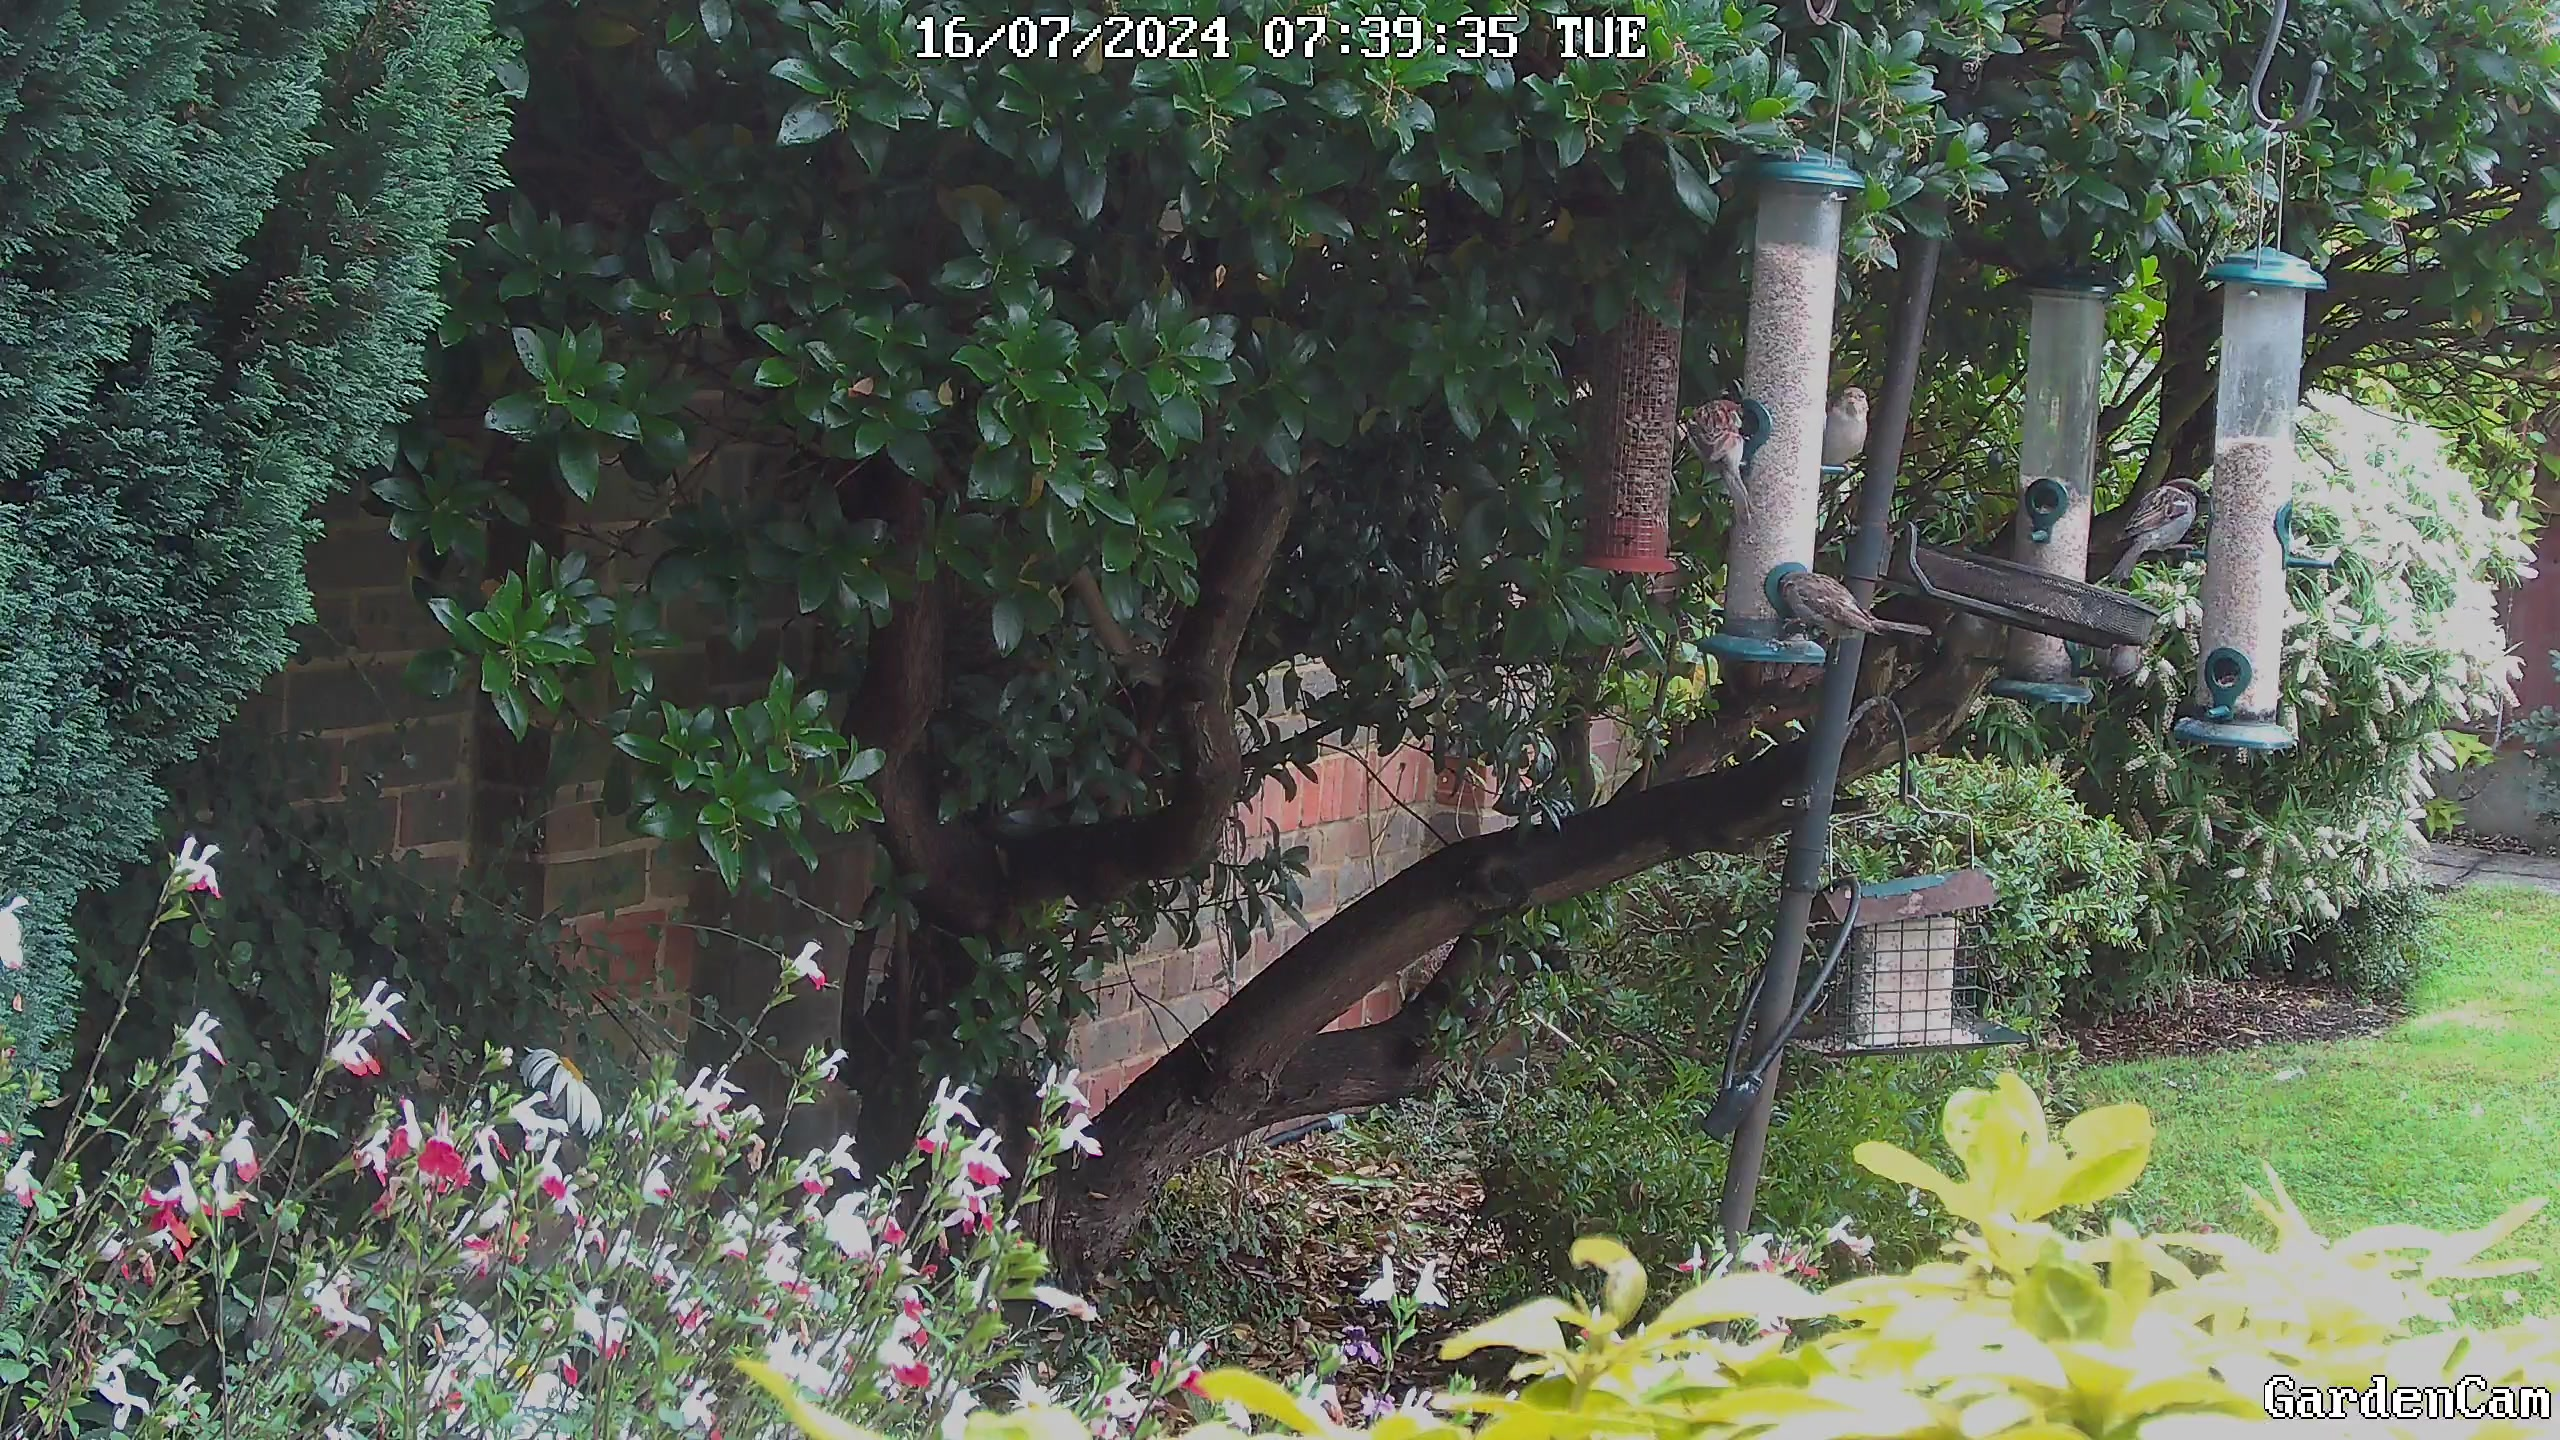House_Sparrow: (1746, 563, 1962, 663), (2106, 462, 2224, 615), (1665, 382, 1769, 527), (1809, 382, 1894, 499)
